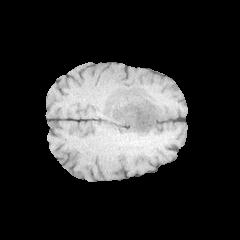glioma: (100, 85, 171, 137)
